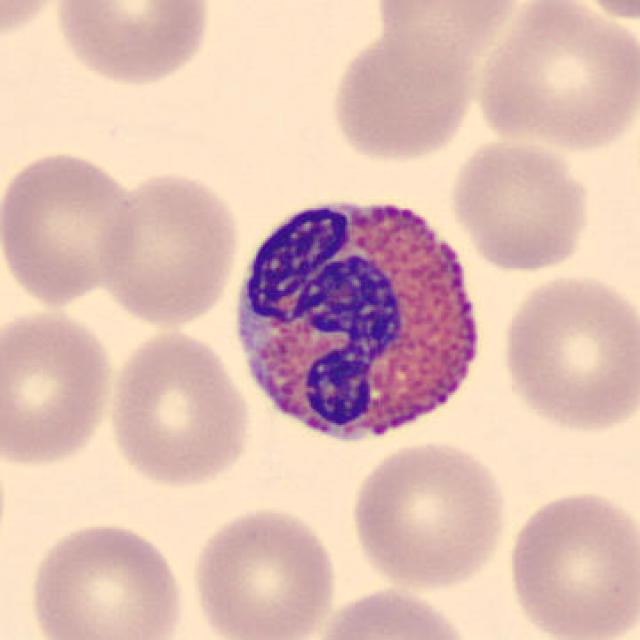Eosinophil: (220, 176, 496, 464)
RBC: (470, 0, 638, 155), (345, 438, 512, 592), (103, 326, 254, 492), (92, 166, 244, 330), (496, 268, 638, 437), (0, 145, 144, 310), (327, 21, 482, 164), (186, 500, 341, 640), (446, 134, 596, 275), (503, 485, 638, 640), (24, 516, 188, 640), (0, 305, 119, 471), (50, 0, 215, 90), (308, 582, 477, 640), (372, 2, 524, 56), (0, 0, 71, 48), (556, 0, 640, 21)
